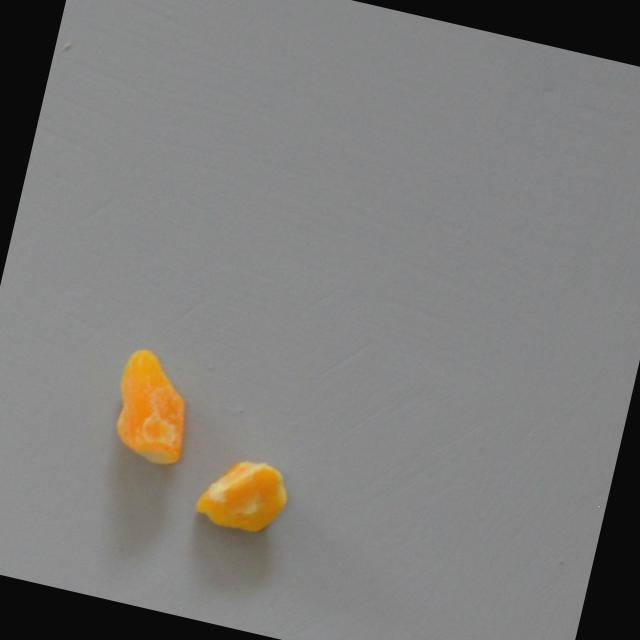pelicula: (103, 343, 204, 470), (192, 446, 295, 539)
